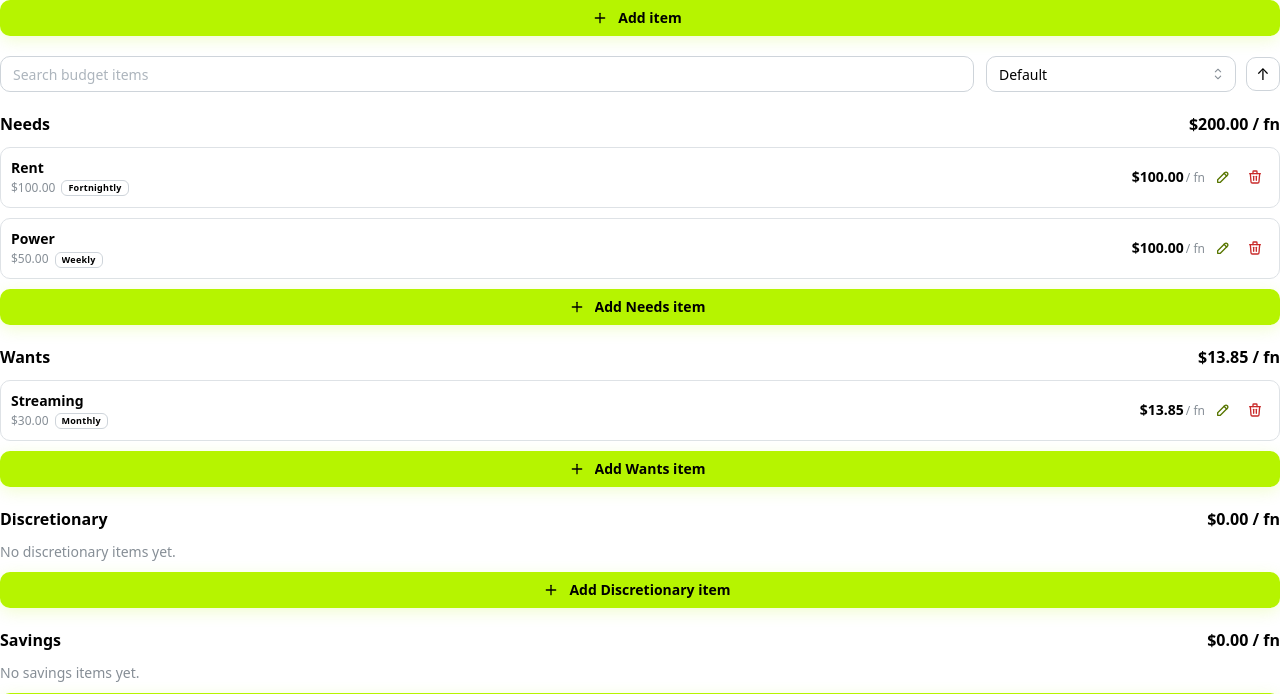
Test case: BudgetLineList › edits a line in place
Click the button named "edit" in the row of "Fortnightly" at [1223, 177], box [1209,163,1237,191]
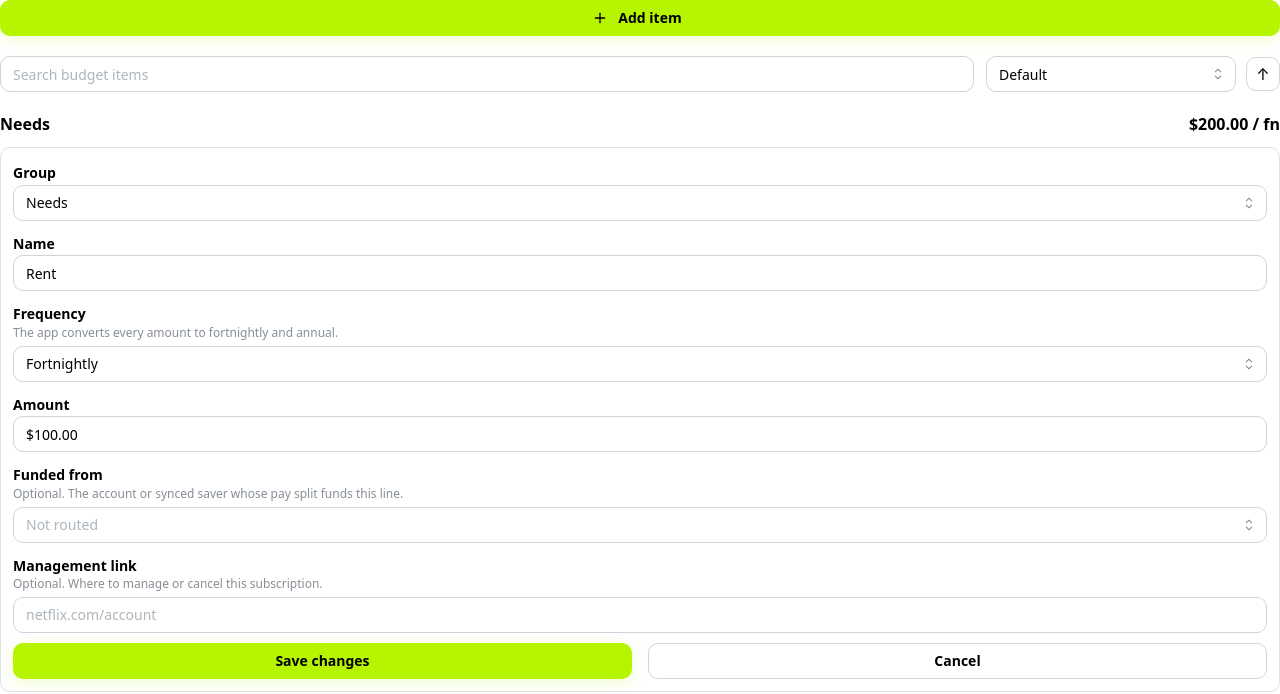
Expected: the button "Save changes" is shown, [13,643,632,679]
Expected: the field labelled "Name" holds "Rent", [13,255,1267,291]
